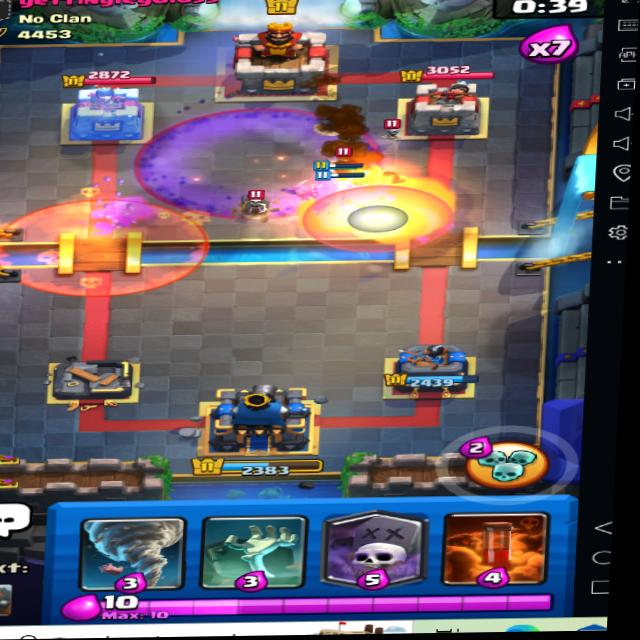Graveyard: (138, 96, 391, 227)
Poison: (0, 189, 209, 301)
Skeleton: (370, 122, 412, 144), (235, 189, 279, 209)
